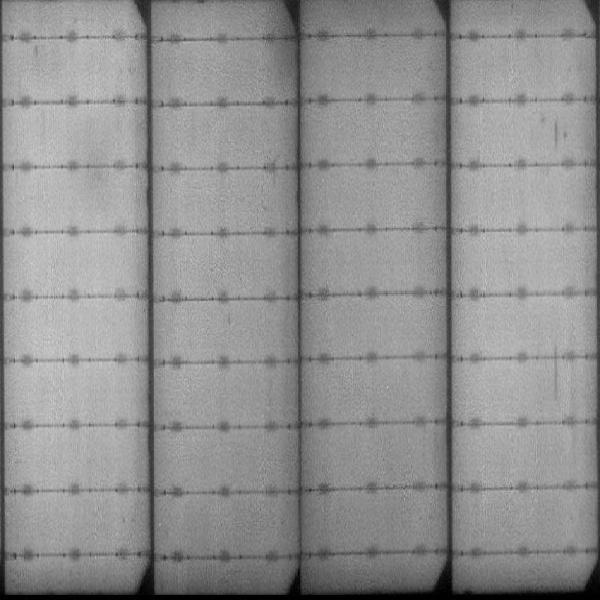scratch: (550, 341, 562, 402), (550, 118, 568, 153)
